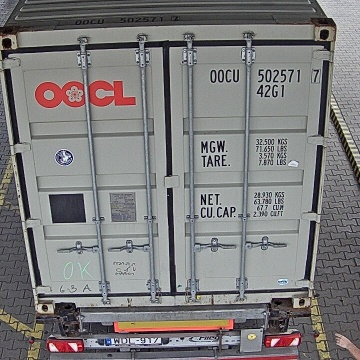serial_id: (210, 68, 321, 82)
